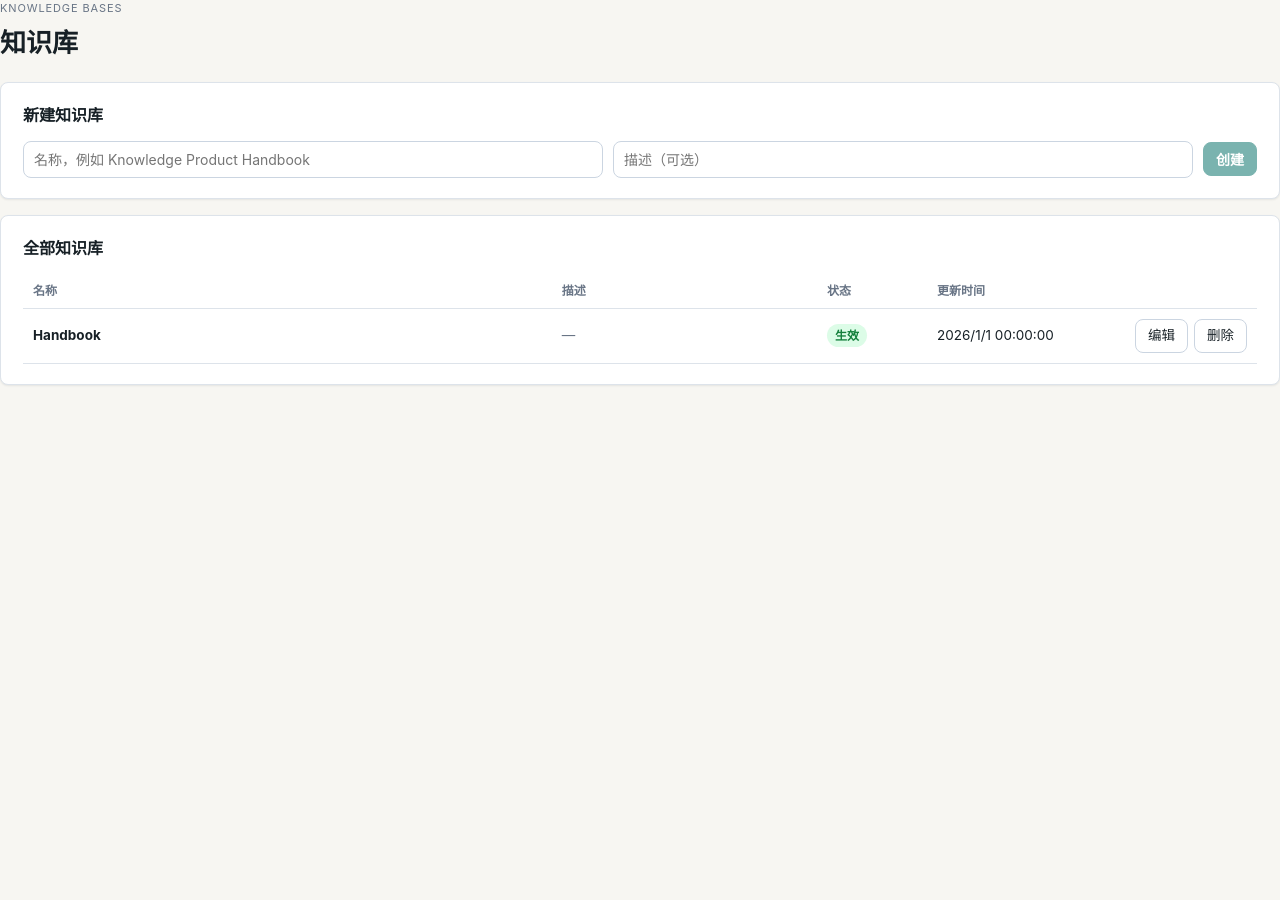
knowledge base management › edits a KB from the list and sends the retrieval config
Click the button with aria-label "编辑 Handbook": click(1162, 336) [1135,318,1188,352]
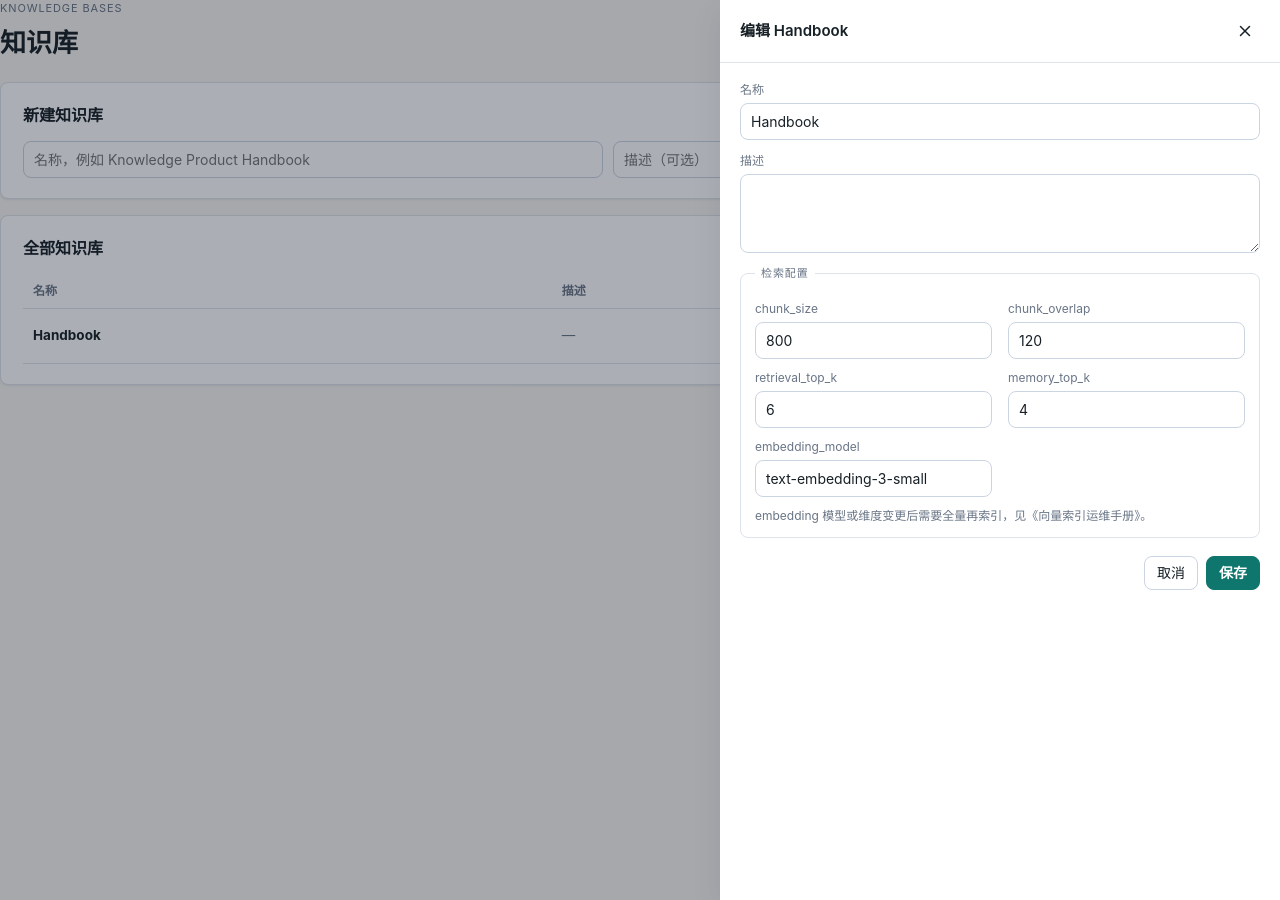
Replace the text in the field showing "Handbook" with "Handbook v2": (1000, 122) [740,103,1260,140]
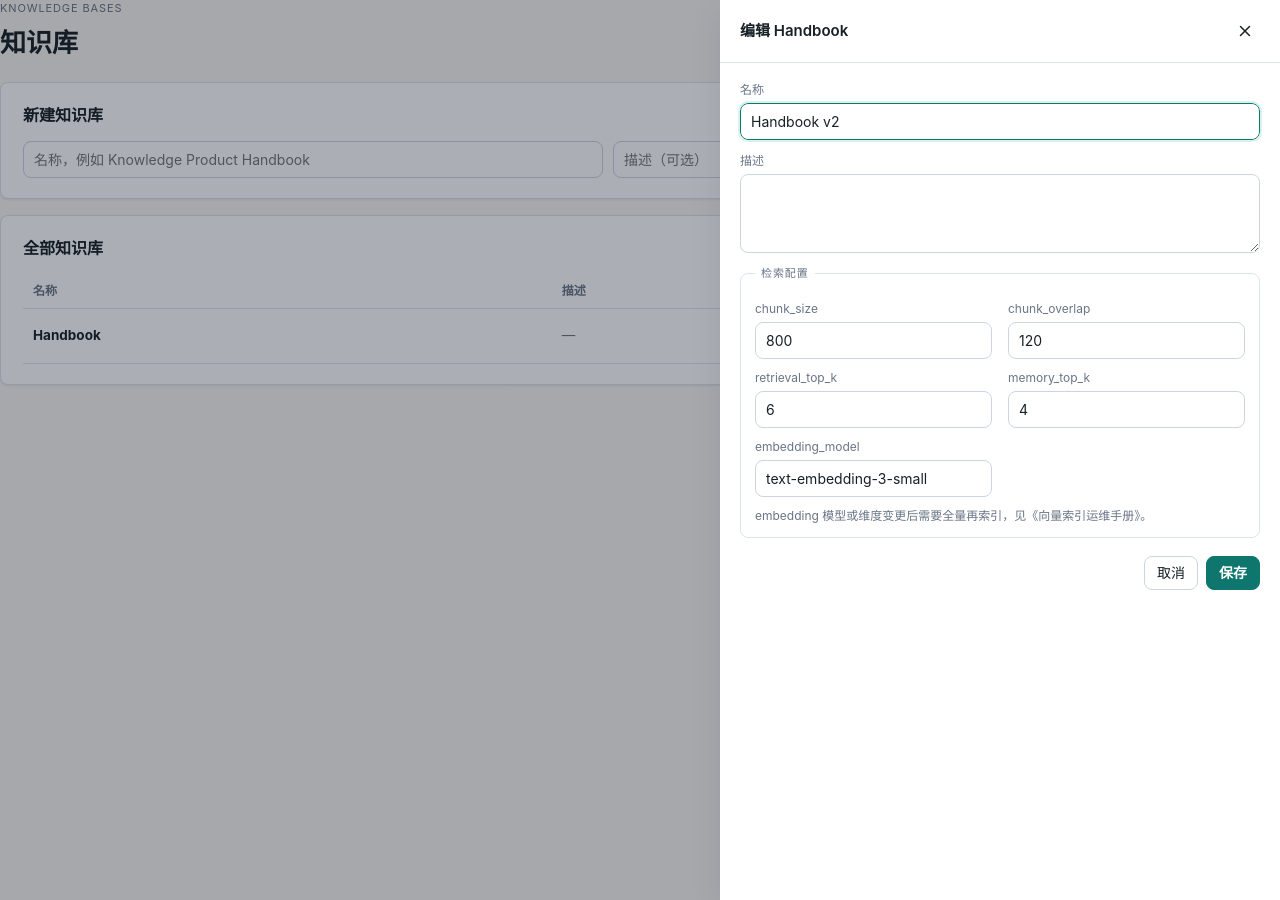
Click the button "保存": click(1233, 572) [1206,556,1260,590]
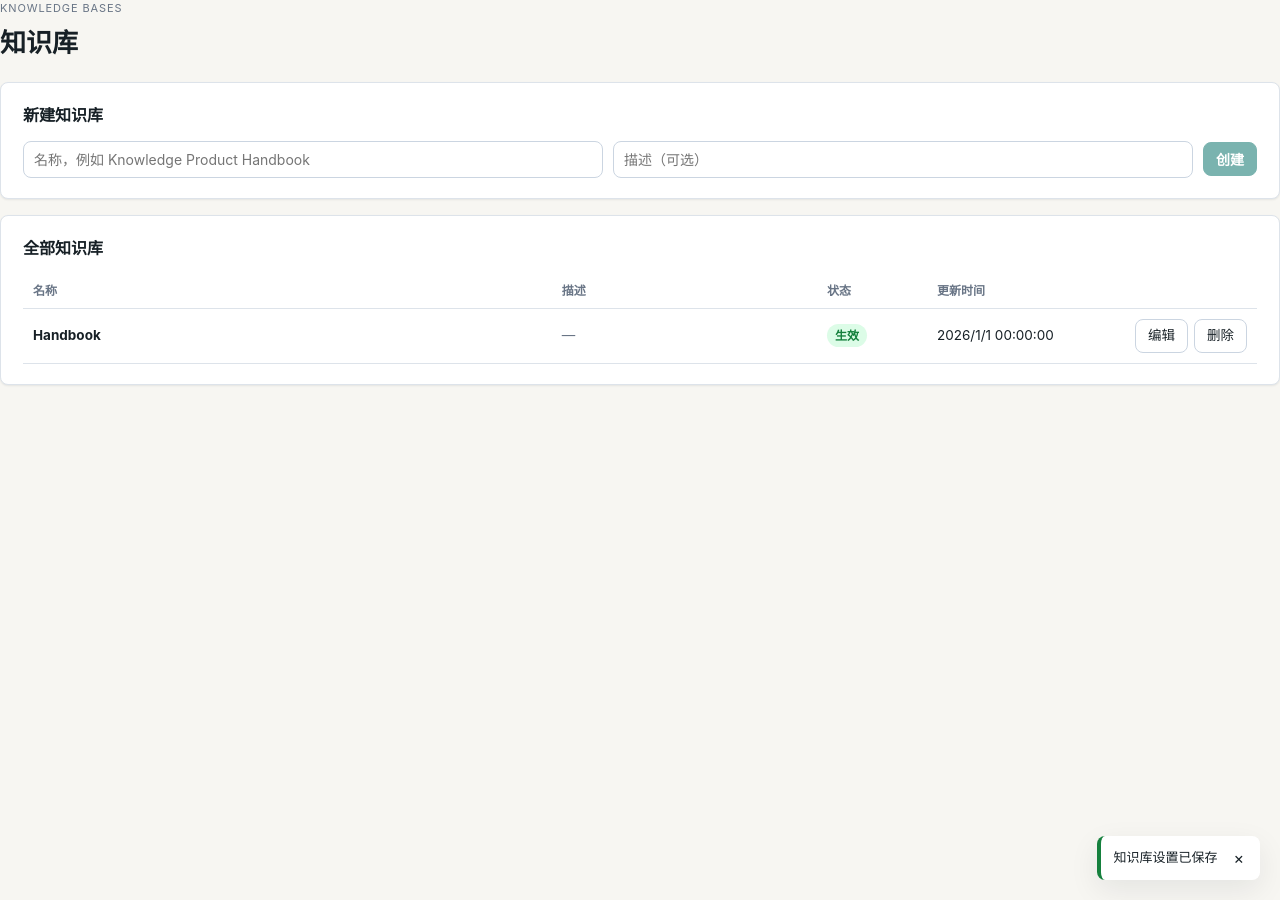
Check: the text "知识库设置已保存" is shown, box [1113,848,1217,868]
